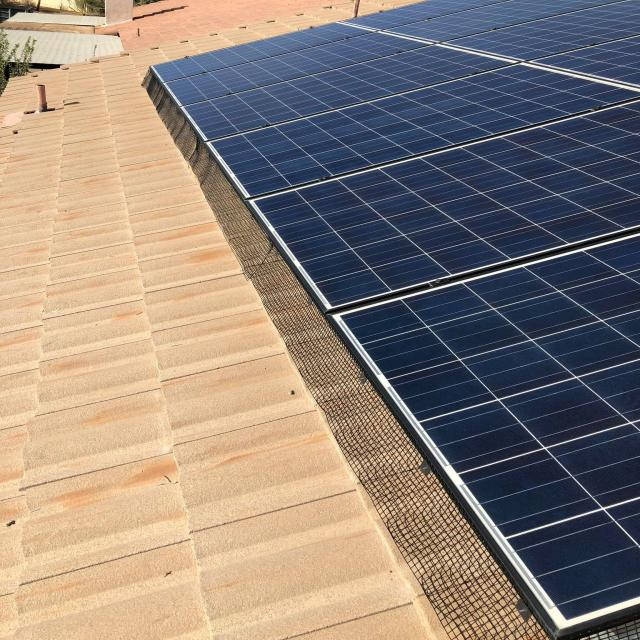clean-solar-panel: (153, 0, 638, 630)
